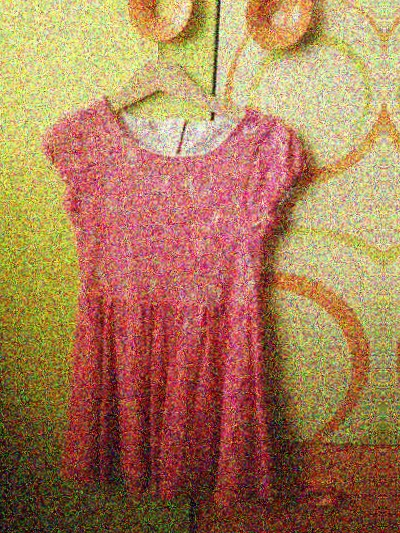Dress: (43, 67, 339, 509)
